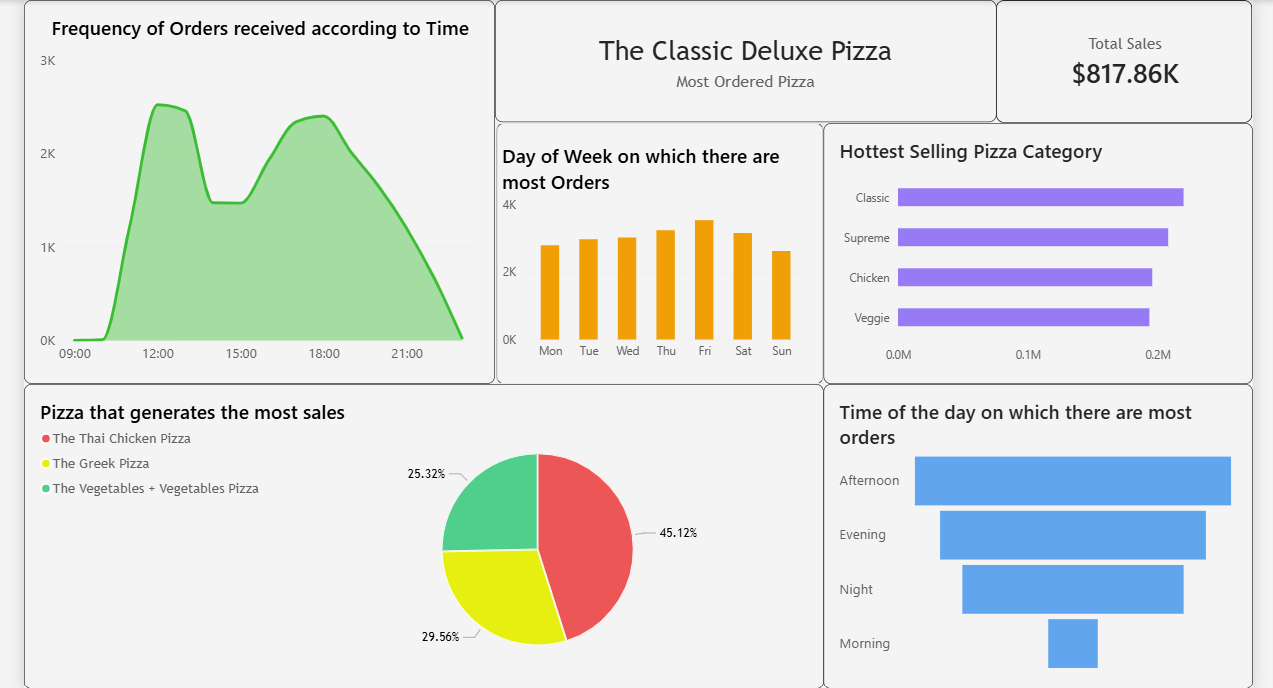

The page's visual inventory and layout, read from the dashboard file:
{"tool":"powerbi","page":{"name":"Page 1","canvas":[1280,720],"ordinal":0},"visuals":[{"type":"areaChart","title":"Frequency of Orders received according to Time","fields":{"Category":["orders.time"],"Y":["CountNonNull(orders.order_id)"]},"box":[0,0,490.8,400.1],"z":0},{"type":"clusteredColumnChart","title":"Day of Week on which there are most Orders","fields":{"Category":["orders.DayName"],"Y":["CountNonNull(orders.order_id)"]},"box":[492.3,128.2,340.7,272],"z":1000},{"type":"cardVisual","fields":{"Data":["order_details.Total Sales"]},"box":[1012.8,0,267.3,128.2],"z":2000},{"type":"card","fields":{"Values":["order_details.Most Ordered Pizza"]},"box":[490.9,0,522.8,127.6],"z":3000},{"type":"pieChart","title":"Pizza that generates the most sales","fields":{"Category":["pizza_types.name"],"Y":["Sum(order_details.money earned)"]},"box":[0,400.1,833.1,318.8],"z":4000},{"type":"funnel","title":"Time of the day on which there are most orders","fields":{"Category":["orders.Time of the Day"],"Y":["CountNonNull(orders.order_id)"]},"box":[833.1,400.1,447,318.8],"z":5000},{"type":"clusteredBarChart","title":"Hottest Selling Pizza Category","fields":{"Category":["pizza_types.category"],"Y":["Sum(order_details.money earned)"]},"box":[833.1,128.2,447,272],"z":6000}]}

Visuals, with their boxes in screenshot pixels (x1, y1, x2, y2):
"Frequency of Orders received according to Time" areaChart: x1=36, y1=0, x2=500, y2=378
"Day of Week on which there are most Orders" clusteredColumnChart: x1=501, y1=121, x2=823, y2=378
cardVisual - order_details.Total Sales: x1=993, y1=0, x2=1245, y2=121
card - order_details.Most Ordered Pizza: x1=500, y1=0, x2=994, y2=121
"Pizza that generates the most sales" pieChart: x1=36, y1=378, x2=823, y2=679
"Time of the day on which there are most orders" funnel: x1=823, y1=378, x2=1245, y2=679
"Hottest Selling Pizza Category" clusteredBarChart: x1=823, y1=121, x2=1245, y2=378
